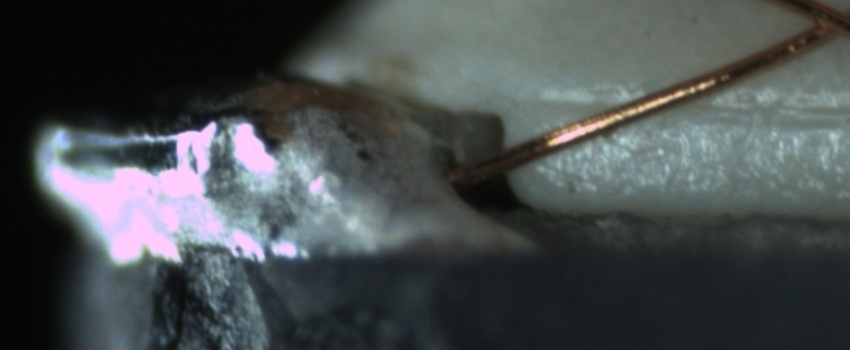CL: (788, 2, 850, 47)
DL: (543, 74, 850, 136)
